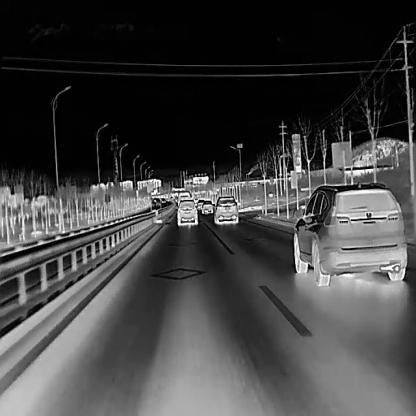bus: (177, 191, 190, 206)
car: (292, 178, 407, 285), (213, 194, 237, 224), (175, 198, 197, 226), (200, 199, 213, 213), (160, 198, 166, 202)
